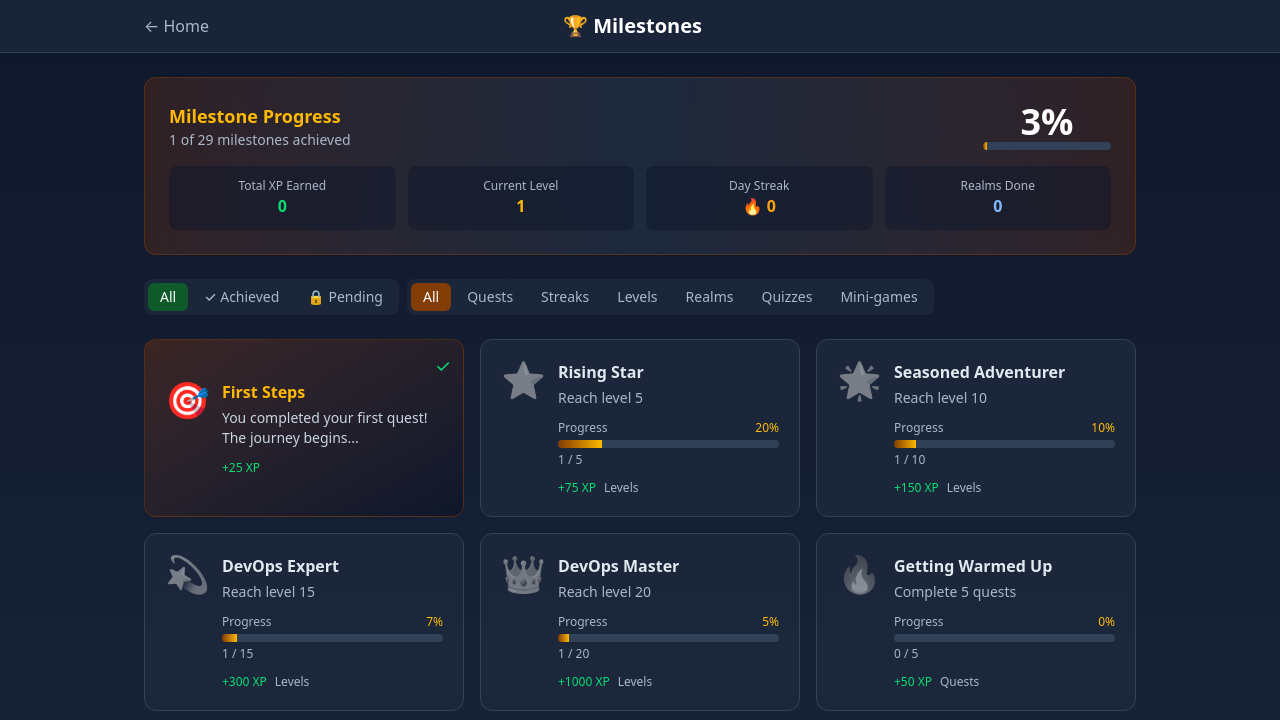
Scenario: MilestonesPage › offers an empty state when no milestone matches the filters
Click the button "✓ Achieved". click: (242, 297)
box: x1=192 y1=283 x2=291 y2=311
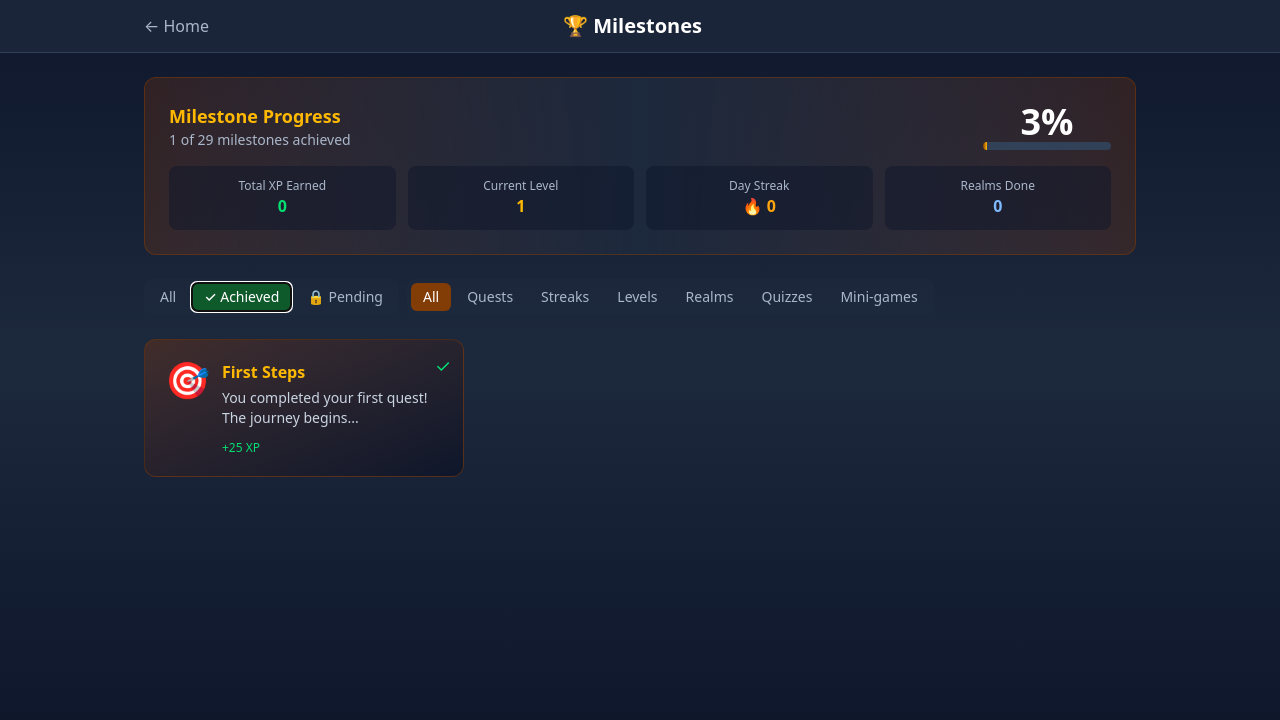
Click the button "Quizzes". click: (787, 297)
box: x1=750 y1=283 x2=824 y2=311
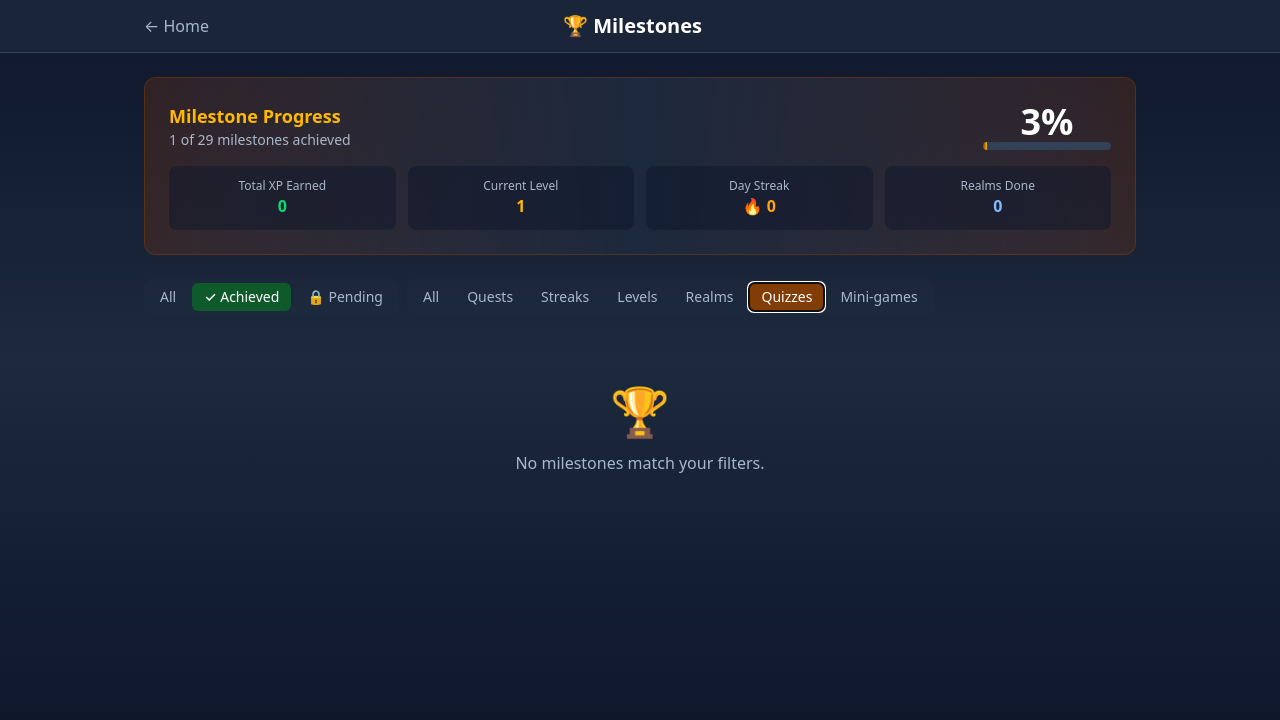
Check: the text "No milestones match your filters." is shown, box x1=515 y1=452 x2=765 y2=474
Check: the button "First Steps" is gone
